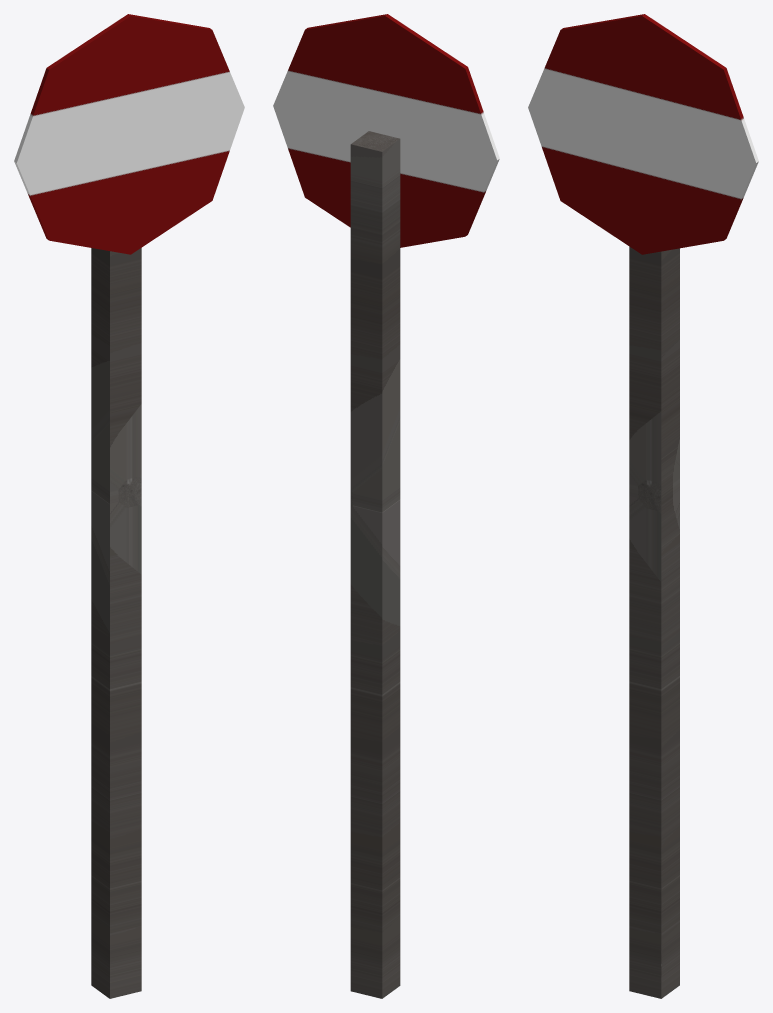
The model's file is PlacaPare.fbx.
3 renders of one model, left to right at view 1: azimuth 30°, elevation 25°; view 2: azimuth 150°, elevation 25°; view 3: azimuth 330°, elevation 25°, orthographic.
Parts seen in each view (by area): view 1: Placa6; view 2: Placa6; view 3: Placa6.
Boxes of the visible parts, x1,y1,x2,y2 form: Placa6: (14,14,244,998); Placa6: (273,14,499,998); Placa6: (528,14,758,998).
Size of the model in its own units: 77.29 by 318 by 13.26.
